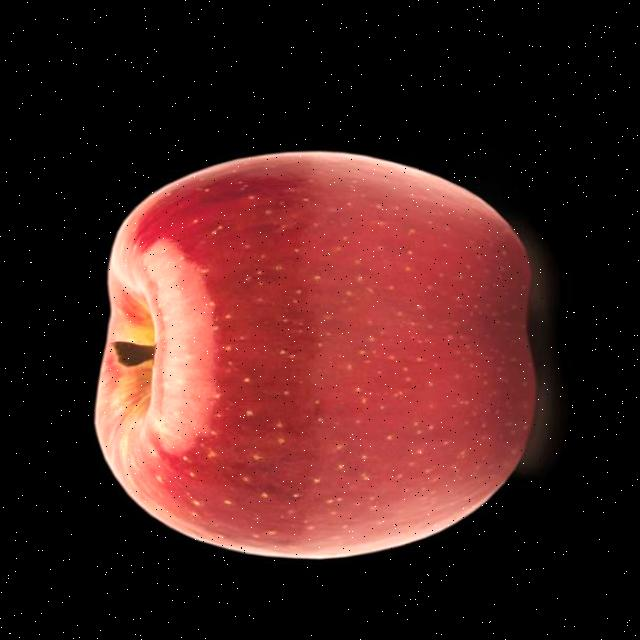BLOTCH: (49, 114, 559, 590)
